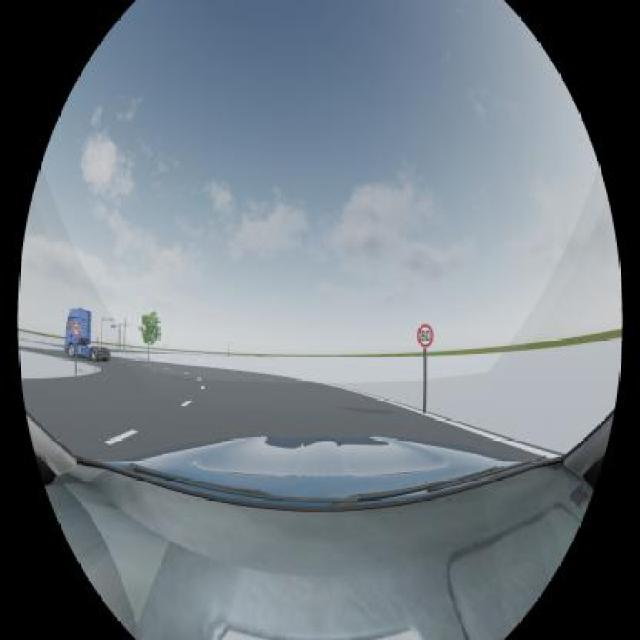forb_speed_over_80: (417, 324, 434, 348)
